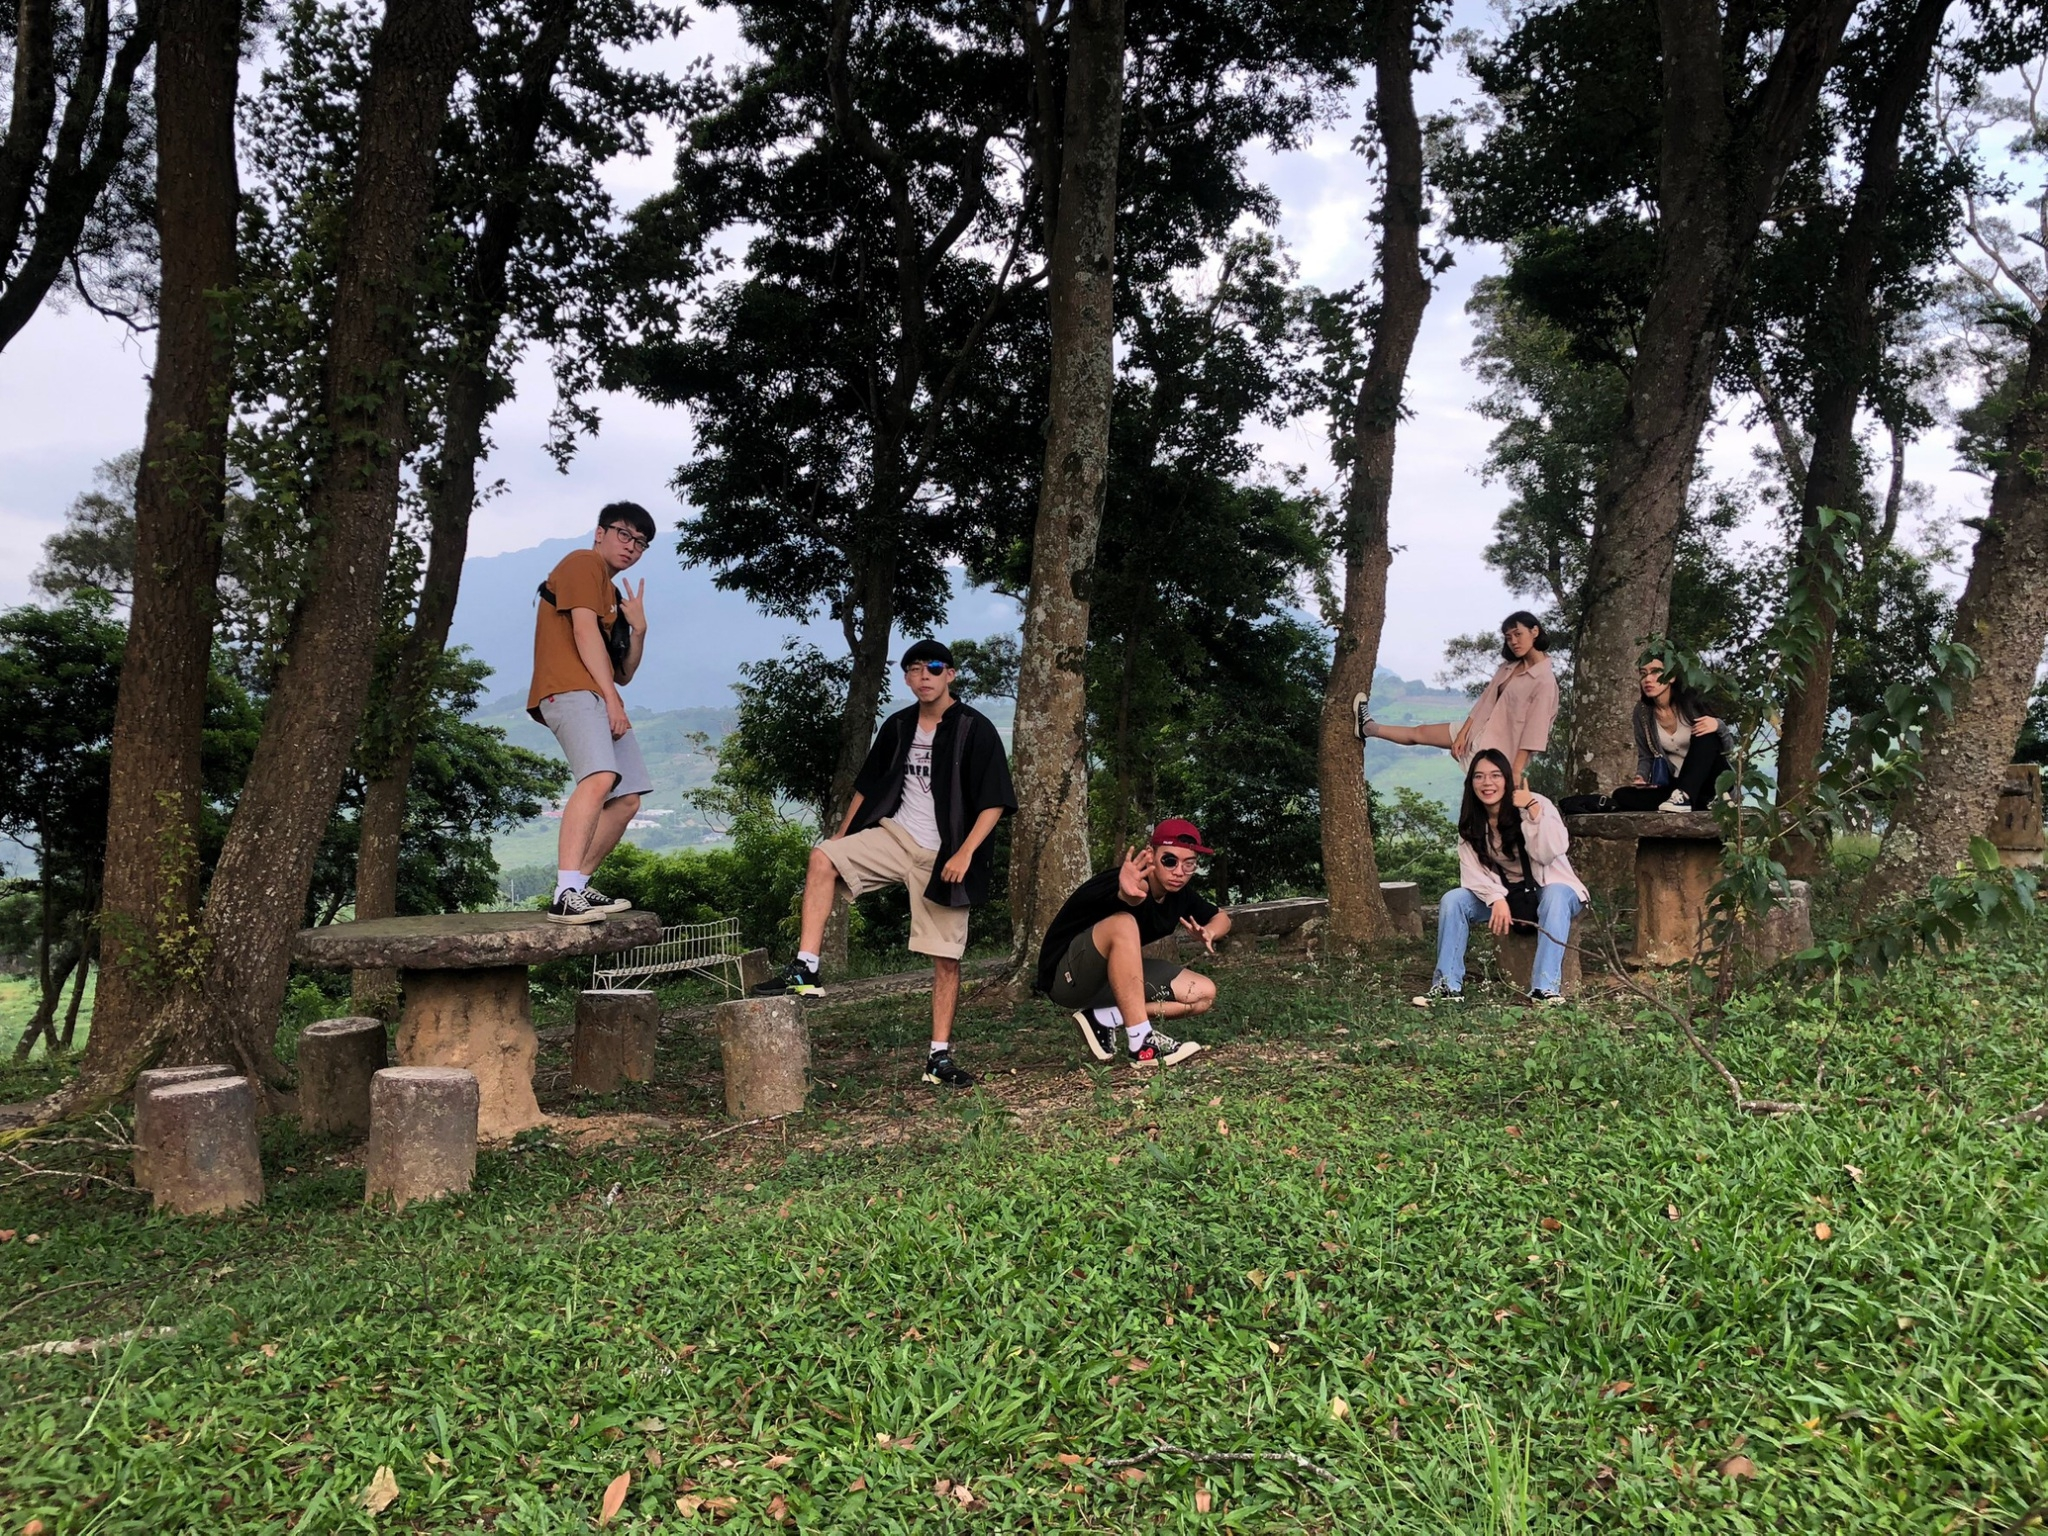people: (837, 640, 993, 1090), (546, 499, 666, 913), (1060, 816, 1219, 1055), (1440, 752, 1575, 1002), (1634, 649, 1740, 834), (1475, 613, 1557, 802)
